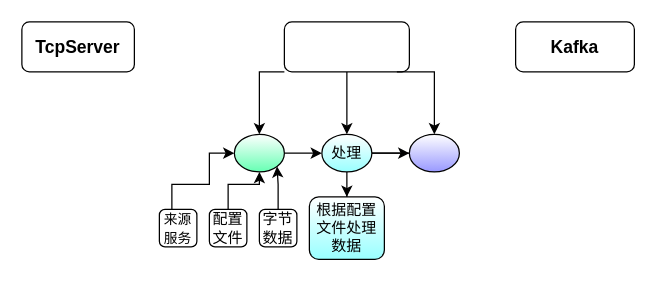
Some shapes in this 656 by 281 pixel diagram are drawn without their labels. Here are the shapes that lost their labels. From the top down, the centre of each, then its label:
point 346,46: MsgHandler
point 258,152: 接收
point 433,152: 发送
